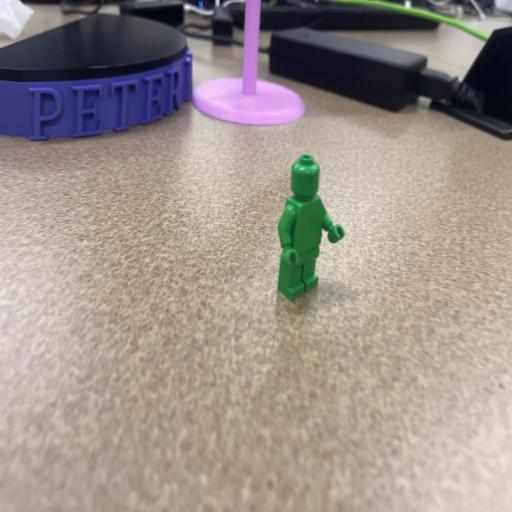Lego-Minifig: (278, 154, 344, 300)
